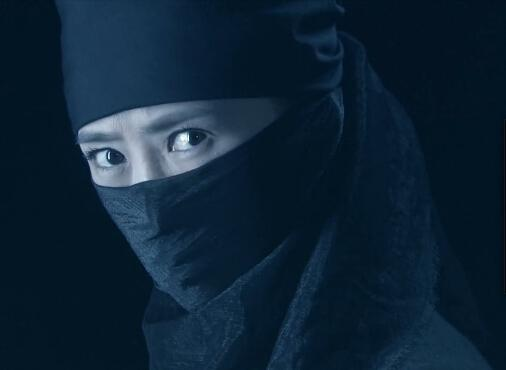OK: (75, 99, 279, 303)
